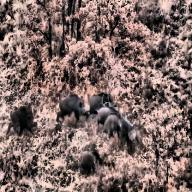boar: (9, 98, 46, 139), (57, 86, 88, 124), (104, 112, 138, 146), (76, 140, 103, 170), (85, 84, 110, 108), (94, 103, 119, 121)
